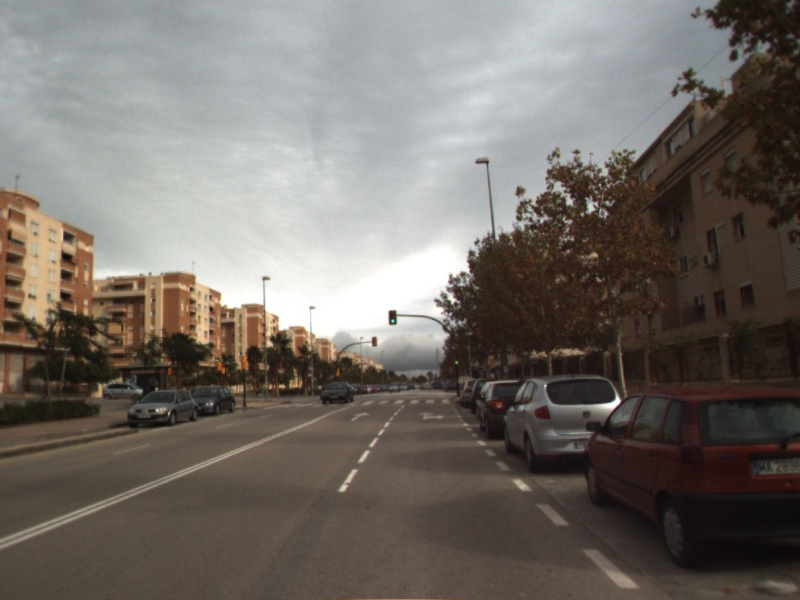STRAIGHT: (349, 410, 372, 423)
STRAIGHT_RIGHT: (415, 410, 447, 422)
